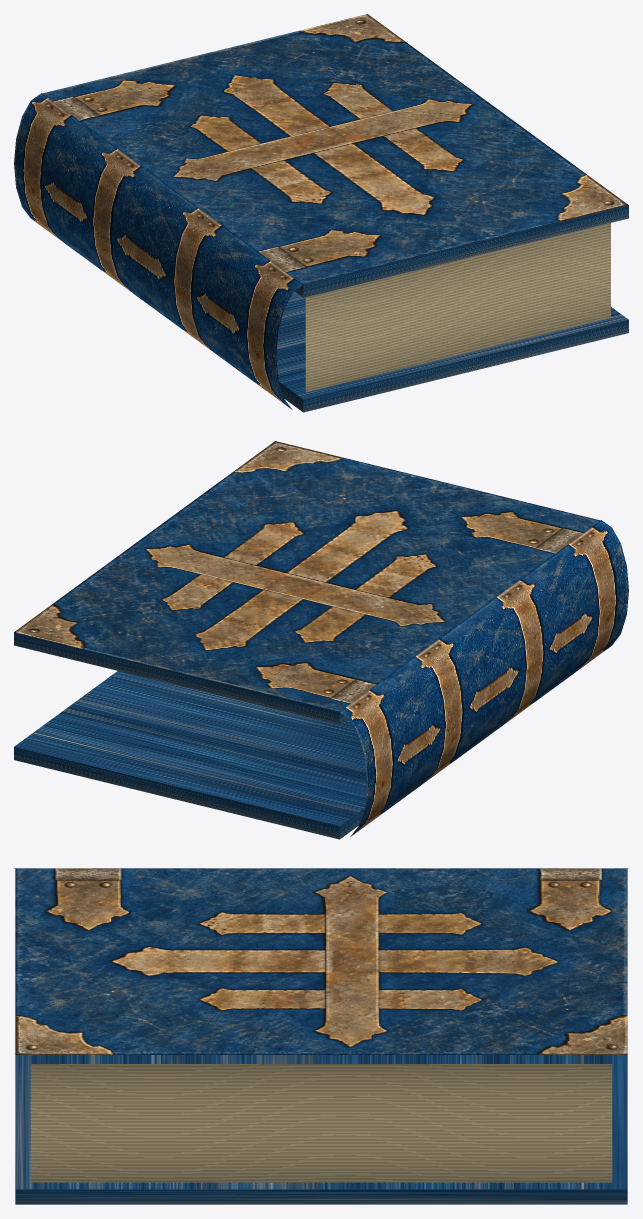
File: item_book4.glb
3 renders of one model, top to bottom at view 1: azimuth 30°, elevation 25°; view 2: azimuth 150°, elevation 25°; view 3: azimuth 270°, elevation 25°, orthographic. The views are drawn at different scales.
Parts seen in each view (by area): view 1: book4; view 2: book4; view 3: book4.
Boxes of the visible parts, <box> form: book4: <box>14,14,628,412</box>; book4: <box>14,441,628,839</box>; book4: <box>14,868,628,1204</box>.
Size of the model in its own units: 0.7808 by 0.27 by 1.
Materials: 1 (1 with a texture image).
